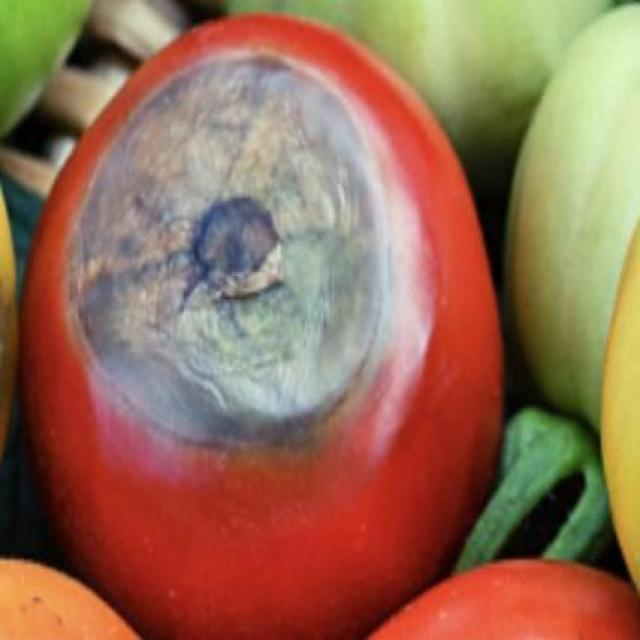Blossom End Rot Fruit: (44, 30, 270, 320)
